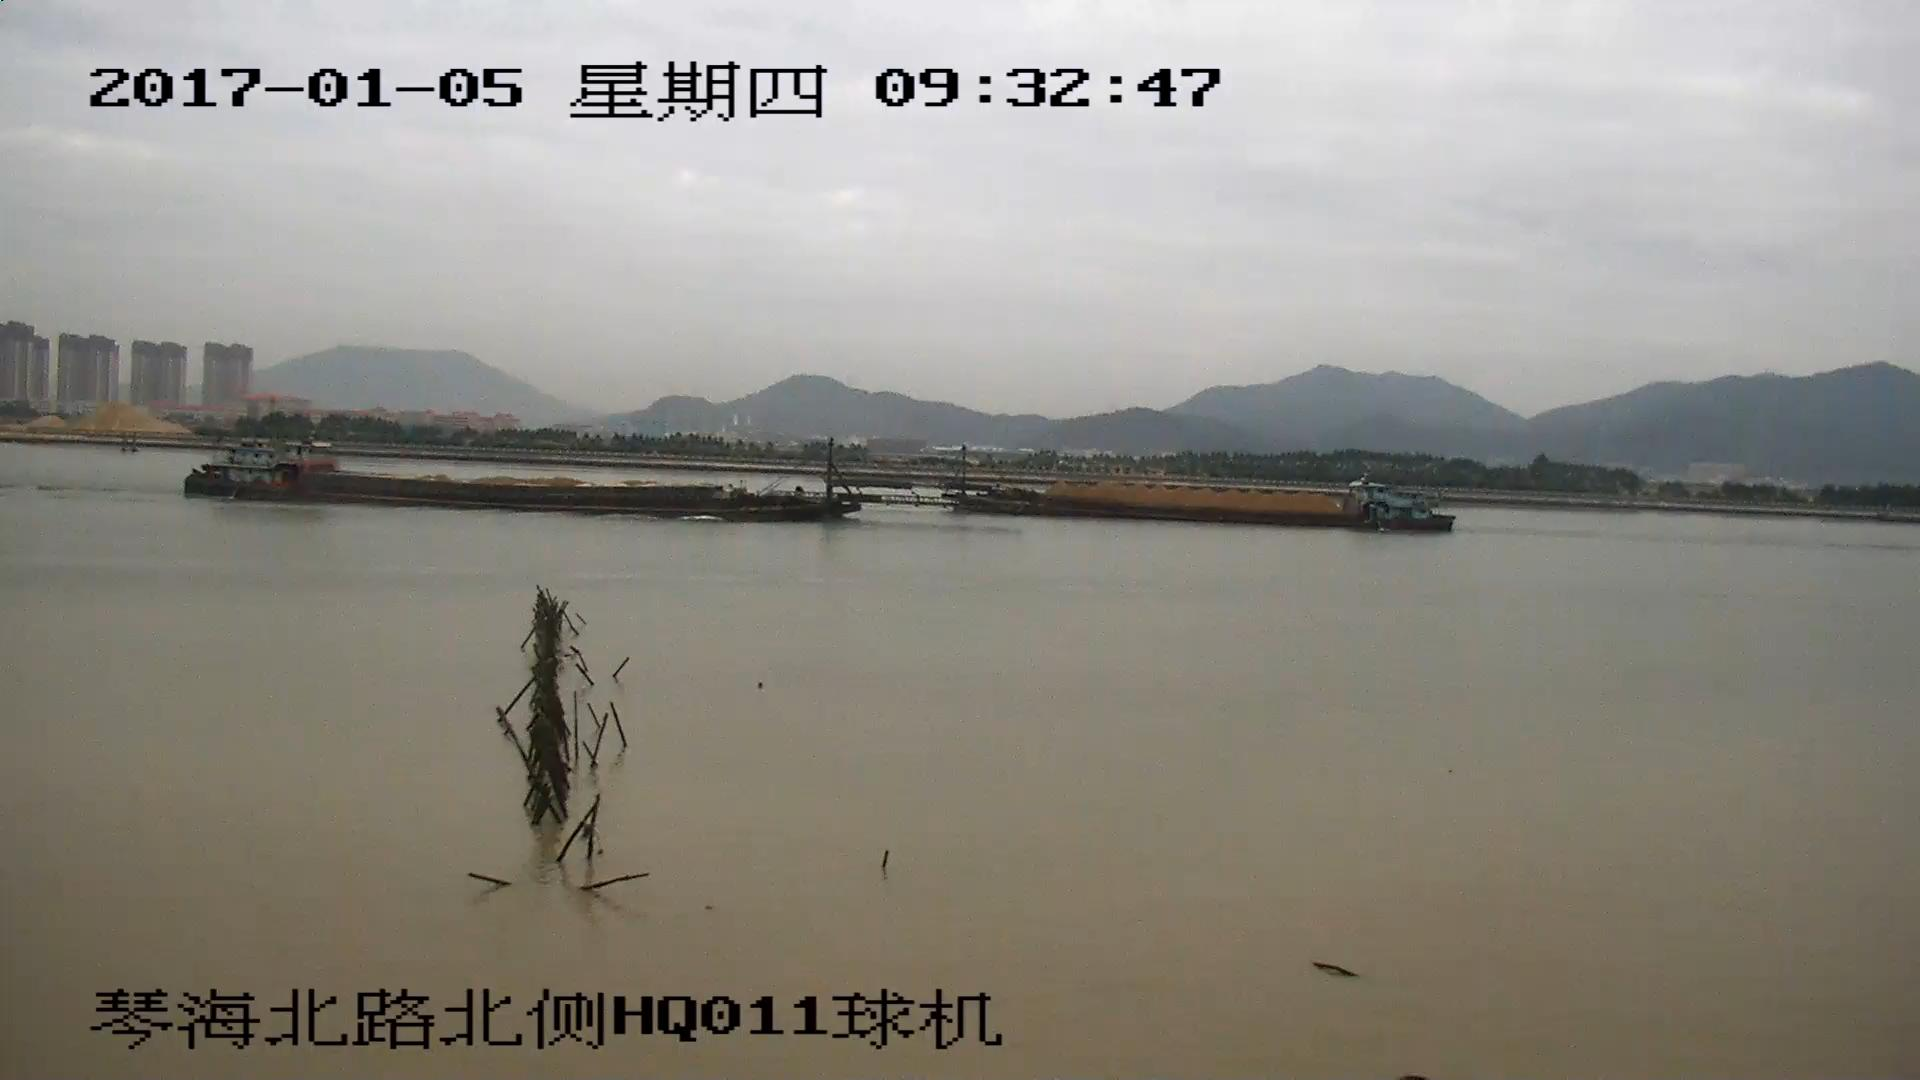ore carrier: (182, 438, 864, 516), (868, 448, 1456, 536)
